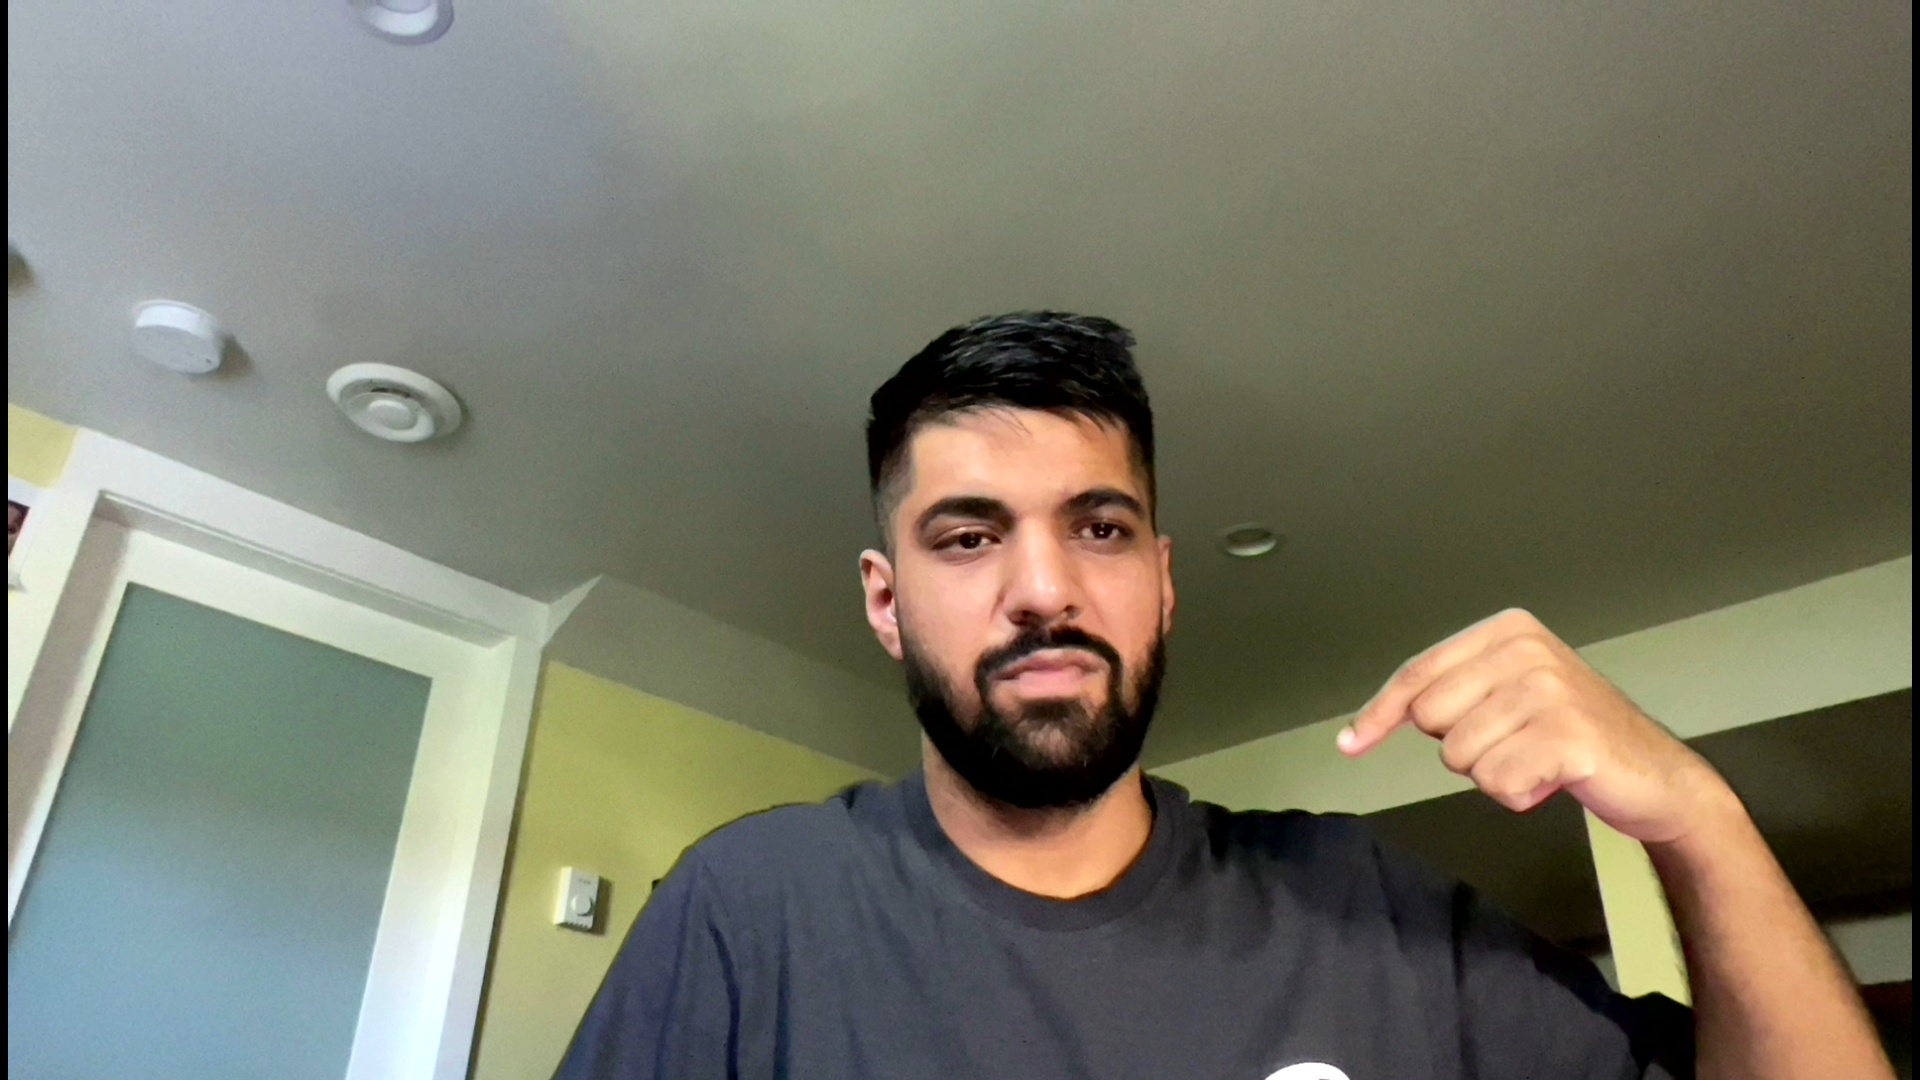Vikrant: (1335, 570, 1785, 847)
